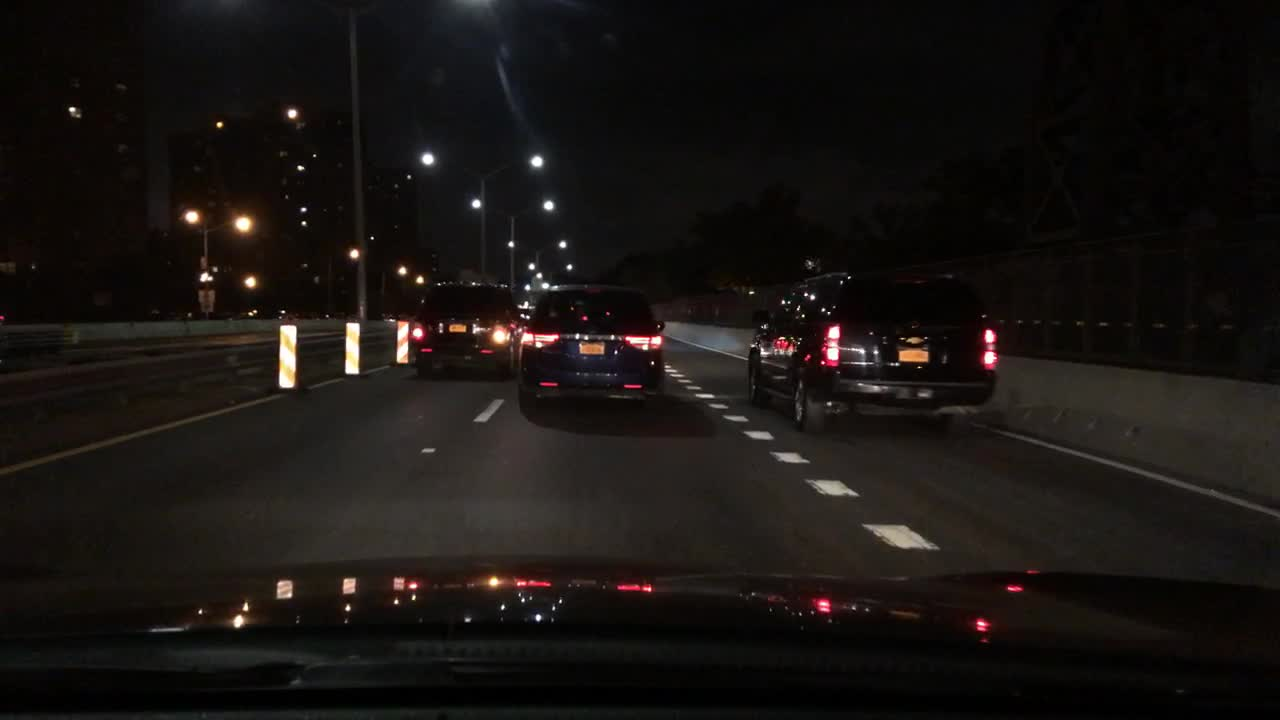car: (743, 267, 998, 431), (514, 280, 667, 419), (408, 278, 521, 379), (275, 307, 295, 321), (240, 307, 260, 319), (385, 312, 397, 324)
traffic sign: (195, 287, 214, 310)
